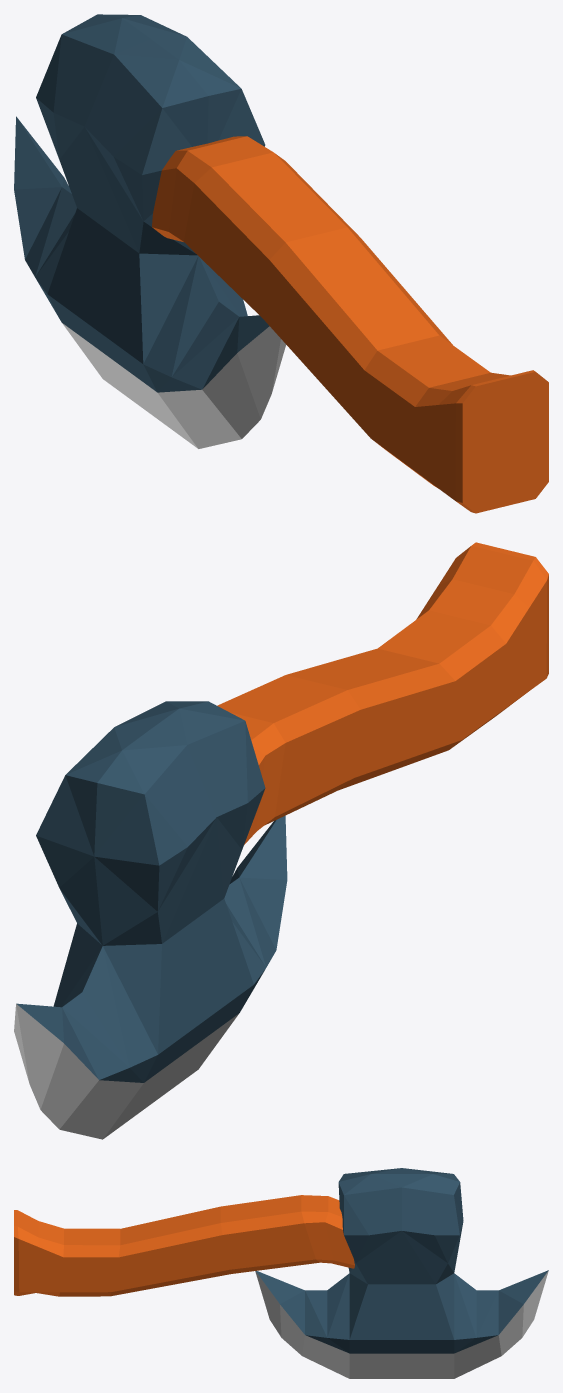
Rendered from Axe 1.fbx.
The picture shows the model from 3 angles, top to bottom: view 1: azimuth 30°, elevation 25°; view 2: azimuth 150°, elevation 25°; view 3: azimuth 270°, elevation 25°; orthographic projection. The views are drawn at different scales.
Visible parts, largest first — view 1: Axe; view 2: Axe; view 3: Axe.
Part boxes in pixels (<box>): Axe: <box>14,14,548,513</box>; Axe: <box>14,542,548,1139</box>; Axe: <box>14,1168,548,1378</box>.
Size of the model in its own units: 79.52 by 212 by 502.
